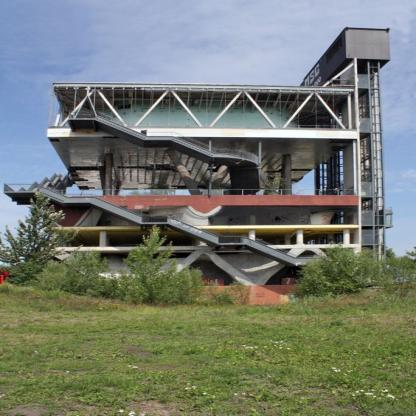Balcony: (4, 183, 355, 195), (47, 122, 353, 131)
Building Outline: (2, 26, 395, 288)
Facade: (2, 26, 395, 288)
Floor Slab: (9, 196, 358, 205), (47, 129, 357, 139), (41, 244, 360, 251), (42, 225, 358, 230)
Pillar: (343, 229, 350, 244), (100, 231, 106, 247), (249, 230, 255, 245), (297, 230, 303, 245)
Window: (326, 37, 342, 63)
